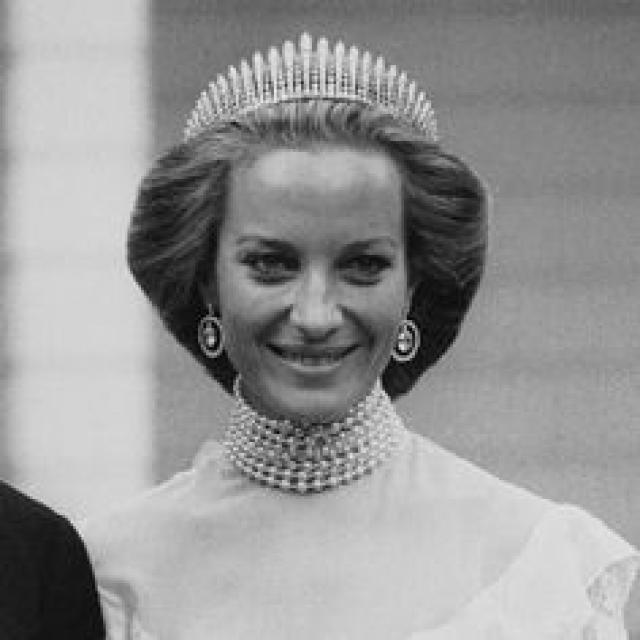Earring: (188, 278, 240, 364), (389, 281, 432, 376)
